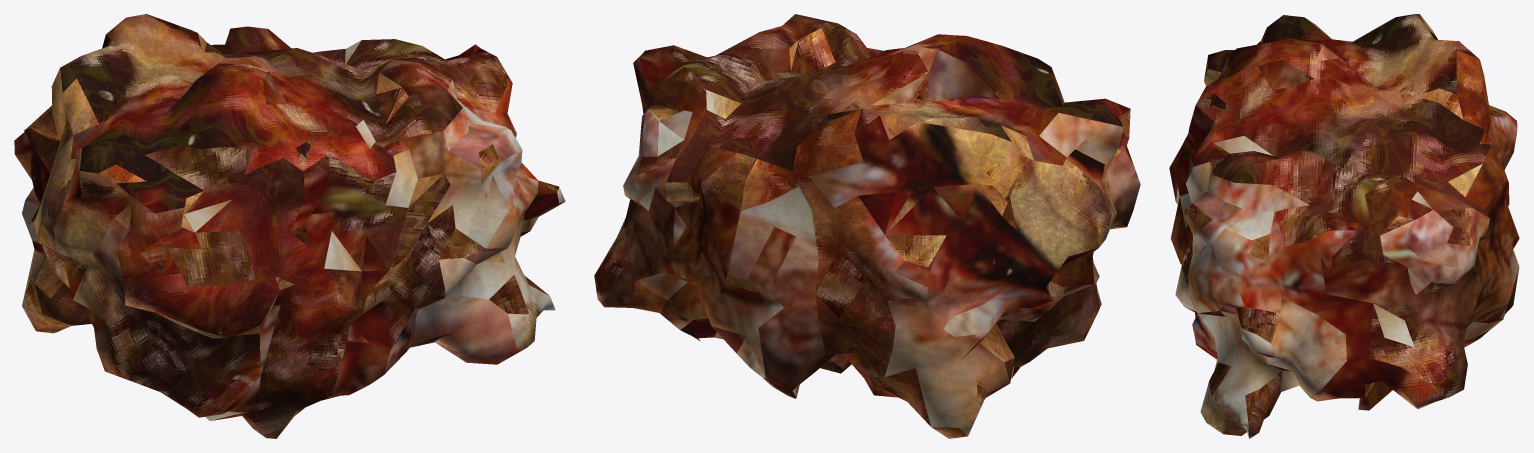
File: rotten_meat.glb
The picture shows the model from 3 angles, left to right: view 1: azimuth 30°, elevation 25°; view 2: azimuth 150°, elevation 25°; view 3: azimuth 270°, elevation 25°; orthographic projection. The views are drawn at different scales.
Visible parts, largest first — view 1: DecimatedMeat; view 2: DecimatedMeat; view 3: DecimatedMeat.
Part boxes in pixels (box(x1,y1,x2,y2)): DecimatedMeat: box(14, 14, 565, 438); DecimatedMeat: box(594, 14, 1140, 438); DecimatedMeat: box(1169, 14, 1519, 438).
Bounding box in the file's own units: 0.4204 × 0.2984 × 0.2934.
1 material, 1 textured.
